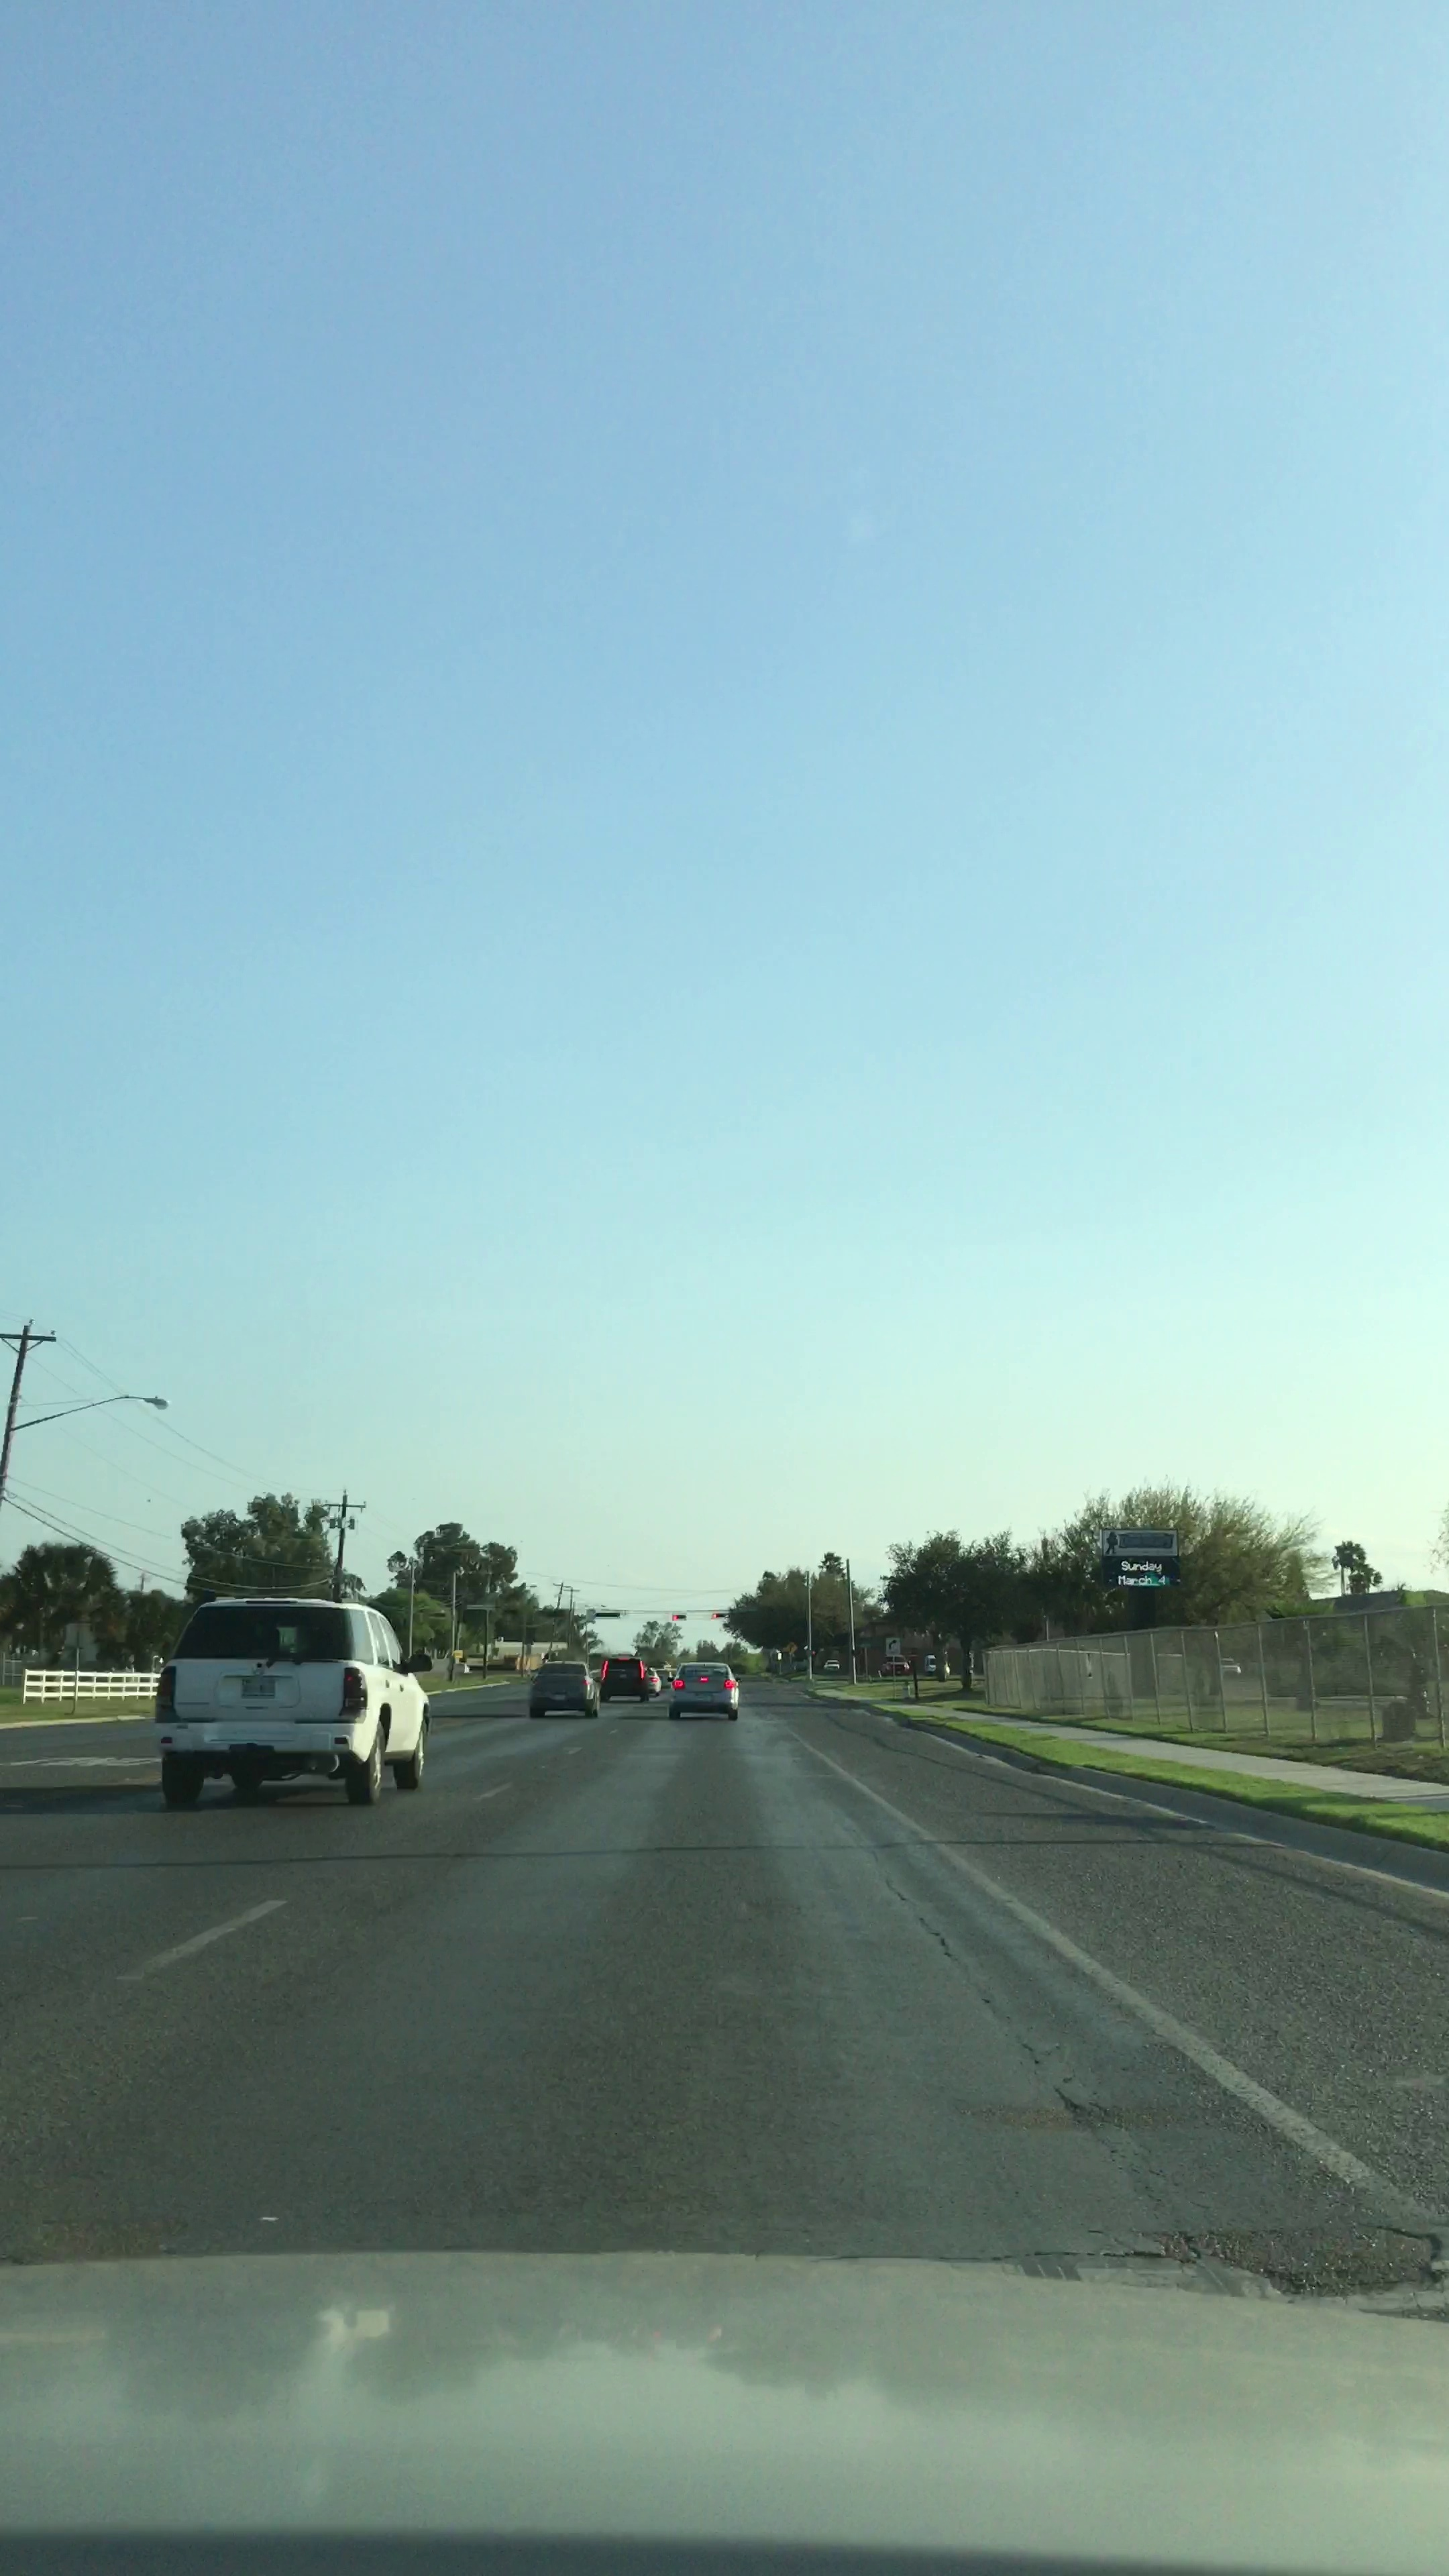crack: (856, 1835, 1203, 2273)
